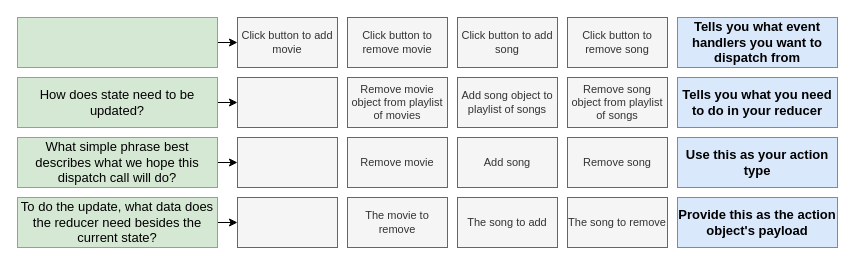
Image size: 855x265. Some labels were removed from this diagram. The shapes that lost their labels are listed below. From the top down, each one's centre as x and y in pixels, then its label:
At (117,42): "What are all the things a user can do that will cause a state update?".
At (287,102): "Add movie object to playlist of movies".
At (287,162): "Add movie".
At (287,222): "The movie to add".
